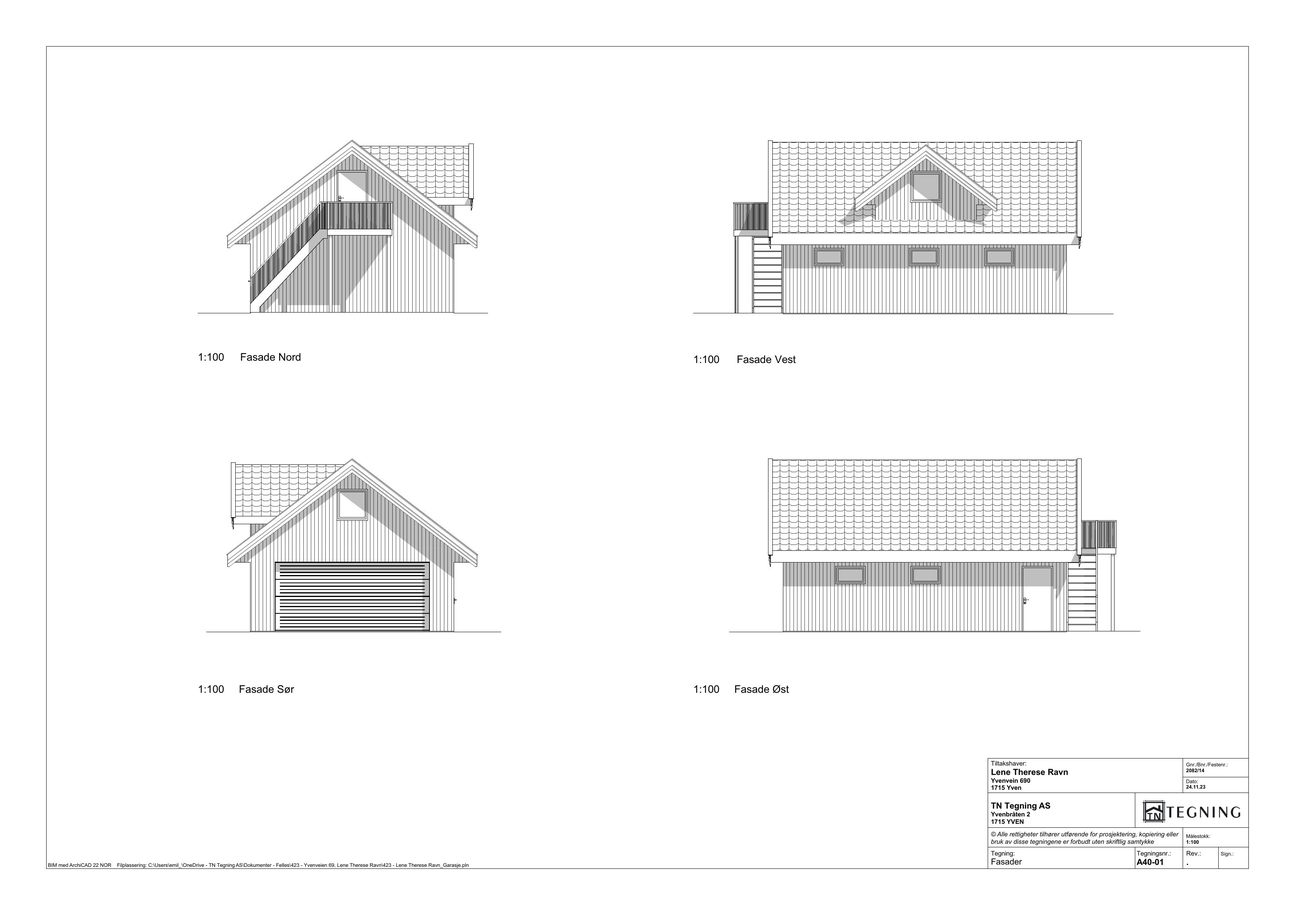fasade: (732, 140, 1083, 315), (768, 457, 1117, 633), (225, 458, 480, 633), (226, 140, 479, 314)
